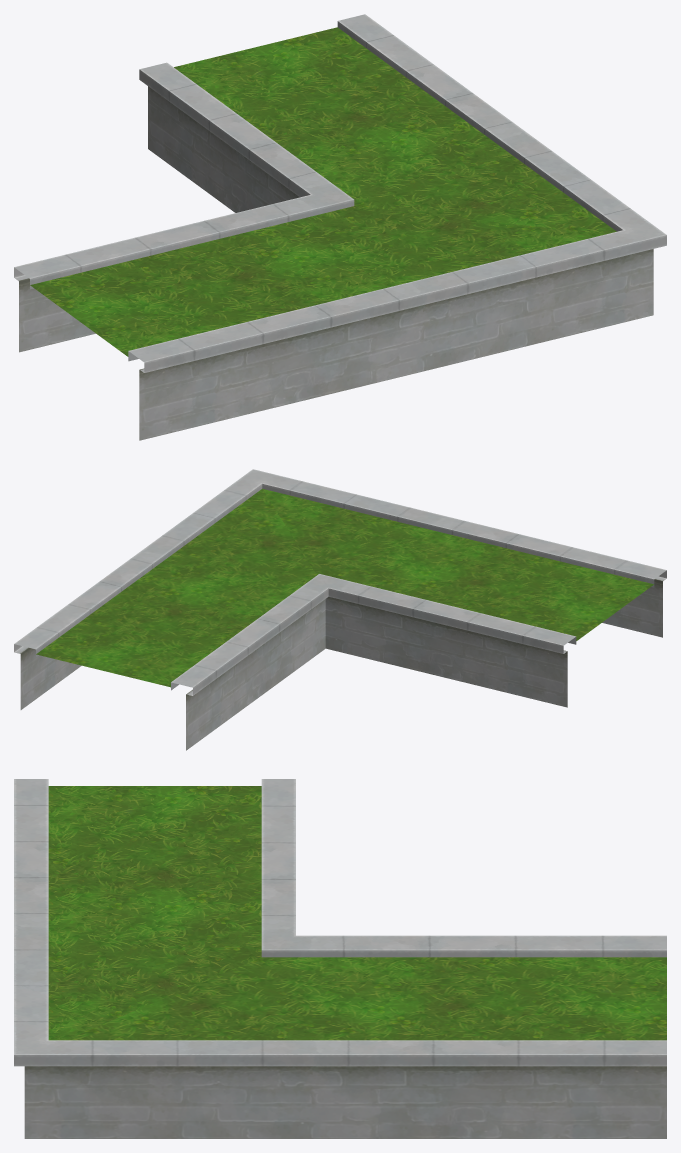
File: flowerBed_high_03.fbx
3 views of the same model, one above another, from view 1: azimuth 30°, elevation 25°; view 2: azimuth 150°, elevation 25°; view 3: azimuth 270°, elevation 25° (orthographic). The views are drawn at different scales.
Visible parts, largest first — view 1: flowerBed_high_03; view 2: flowerBed_high_03; view 3: flowerBed_high_03.
Boxes of the visible parts, bbox=[...] form: flowerBed_high_03: bbox=[14, 14, 666, 440]; flowerBed_high_03: bbox=[14, 469, 666, 750]; flowerBed_high_03: bbox=[14, 779, 666, 1138].
Size of the model in its own units: 383 by 57.19 by 383.
